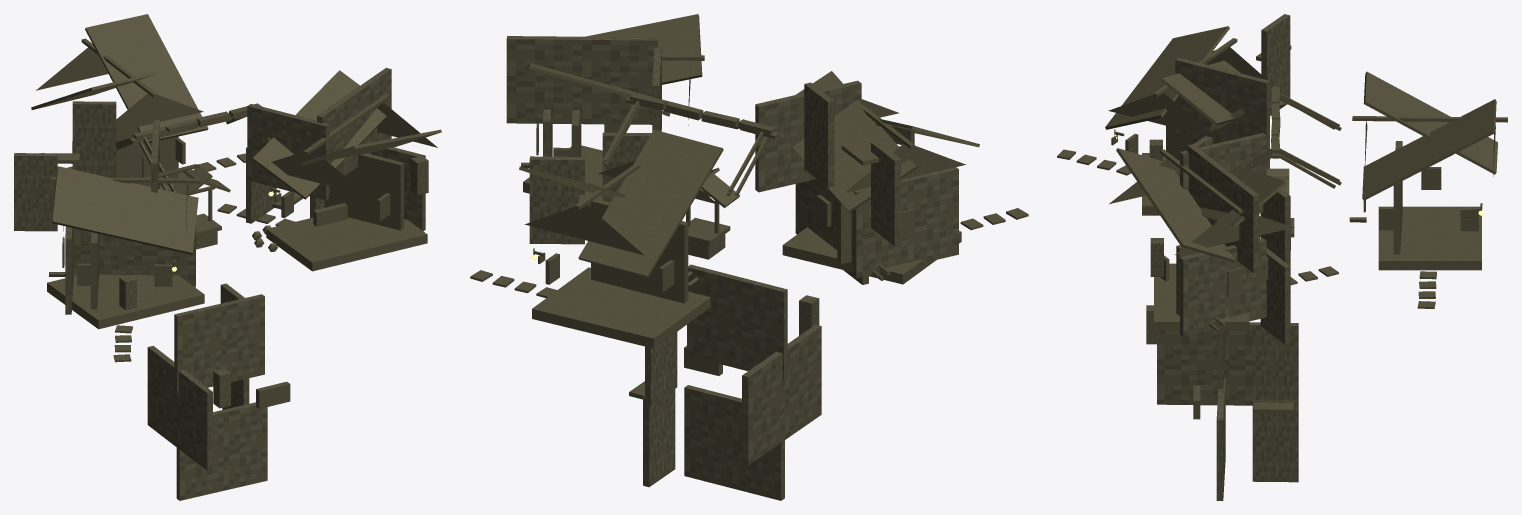
Rendered from work_1648_hamlet.glb.
3 views of the same model, side by side, from view 1: azimuth 30°, elevation 25°; view 2: azimuth 150°, elevation 25°; view 3: azimuth 270°, elevation 25° (orthographic). The views are drawn at different scales.
Visible parts, largest first — view 1: /_l$/_1, /_l$/_0, /_l$/_2; view 2: /_l$/_1, /_l$/_0, /_l$/_2; view 3: /_l$/_1, /_l$/_0, /_l$/_2.
Part boxes in pixels (bbox=[...]): /_l$/_1: bbox=[14, 67, 428, 500]; /_l$/_0: bbox=[31, 14, 441, 362]; /_l$/_2: bbox=[36, 47, 437, 408]; /_l$/_1: bbox=[506, 36, 958, 500]; /_l$/_0: bbox=[470, 14, 1028, 399]; /_l$/_2: bbox=[524, 61, 965, 375]; /_l$/_1: bbox=[1146, 14, 1366, 500]; /_l$/_0: bbox=[1057, 26, 1507, 413]; /_l$/_2: bbox=[1108, 47, 1495, 419].
Bounding box in the file's own units: 13.99 × 13.31 × 13.42.
Materials: 4 (3 with a texture image).
